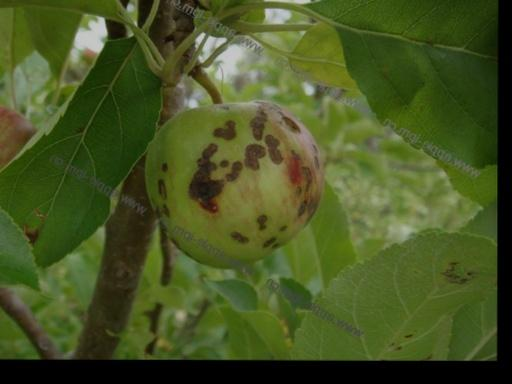rotten apple: (131, 92, 330, 270)
